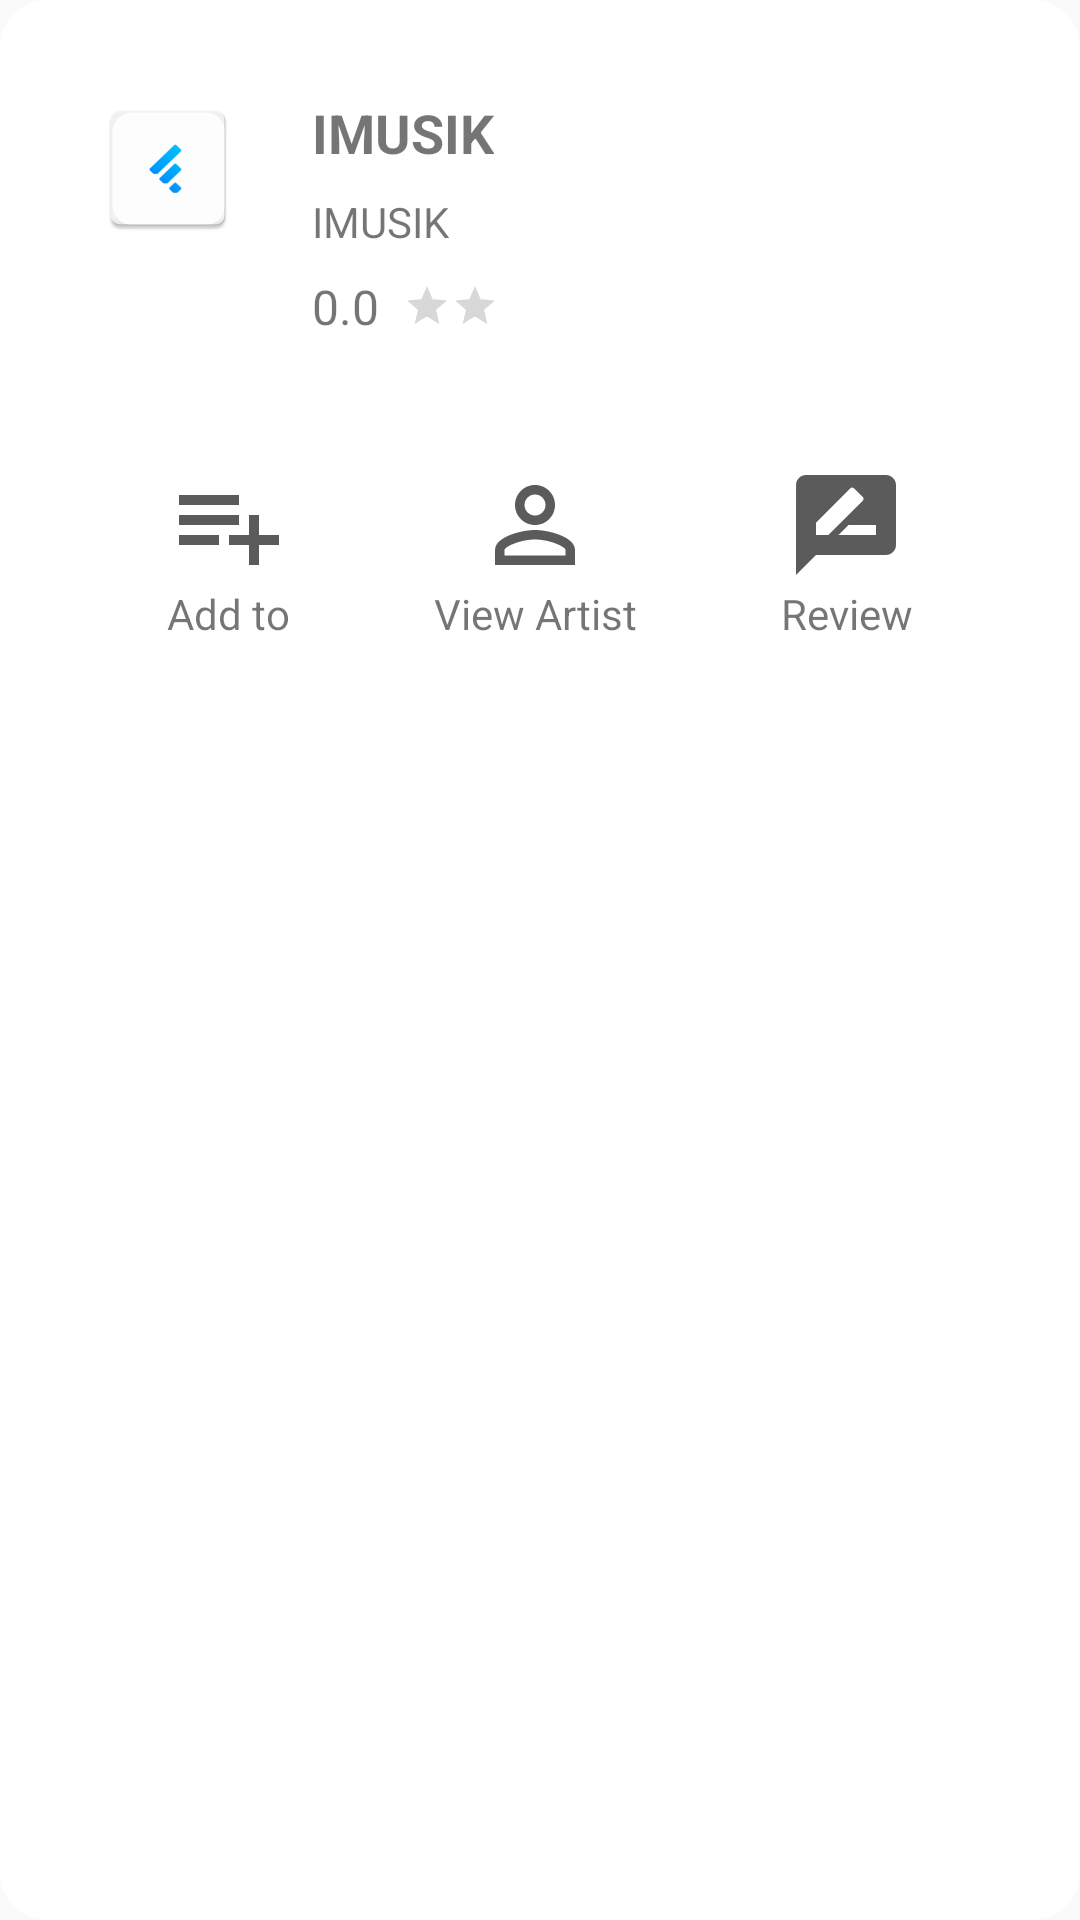

Icon bounding boxes for this 1080 x 1920 phone screenshot, format (x1, y1, x2, y2):
person: (495, 485, 575, 565)
playlist add: (179, 495, 279, 565)
